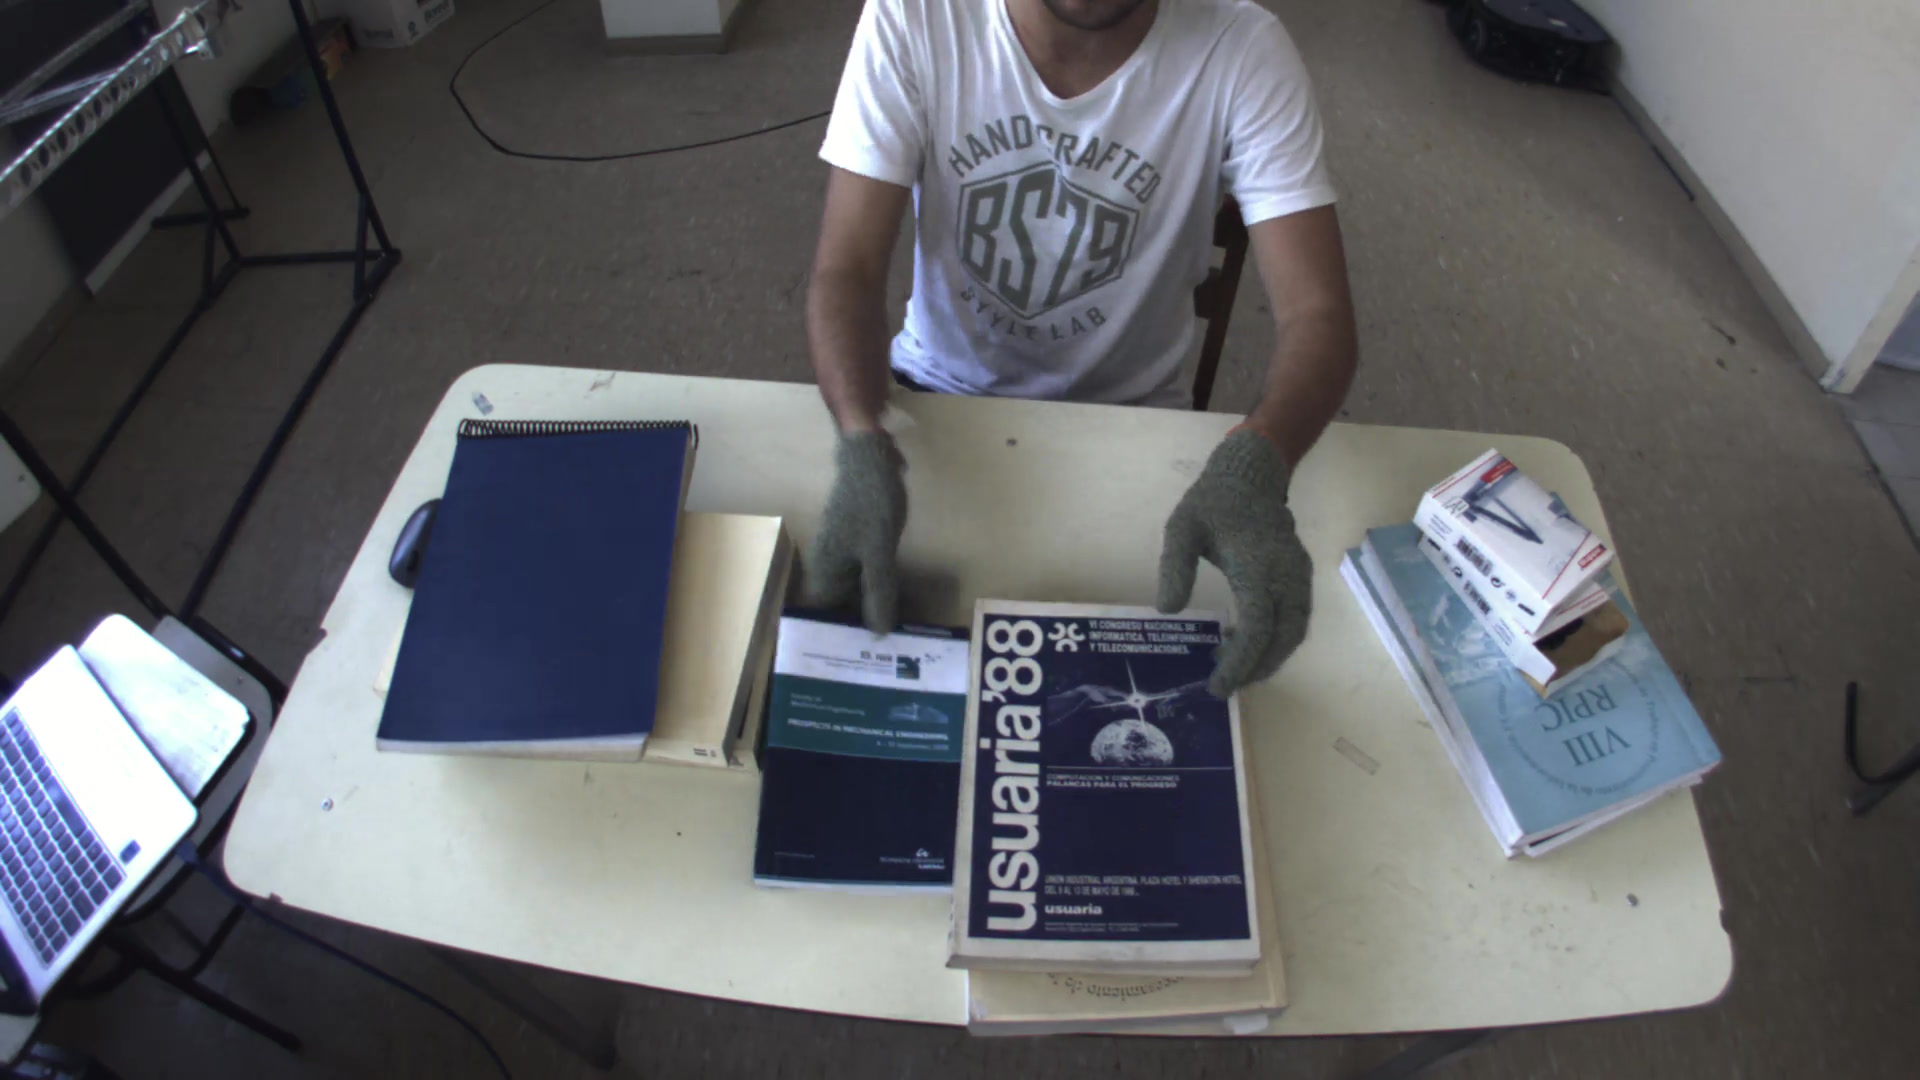hand: (1151, 415, 1329, 708), (800, 418, 911, 604)
